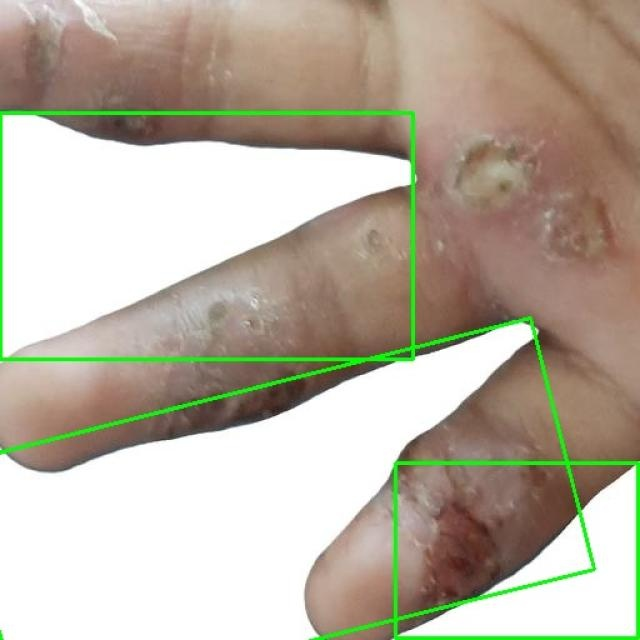Eczema: (0, 318, 599, 640), (0, 112, 412, 359), (396, 464, 639, 639)
